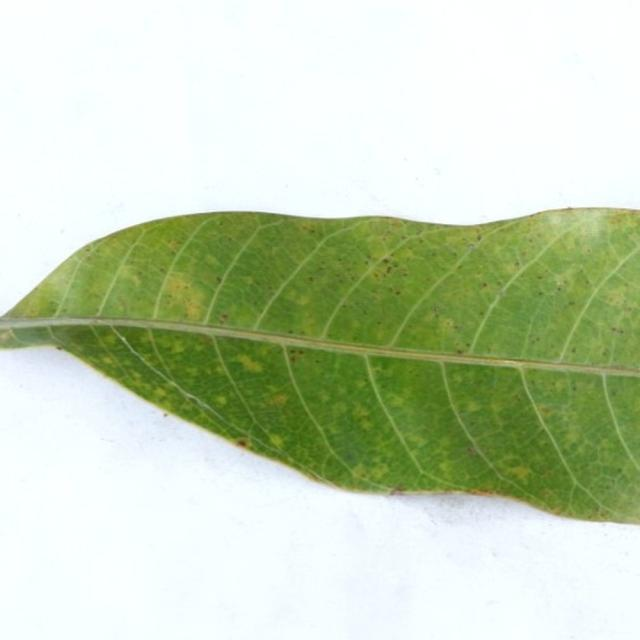Mango: (0, 209, 639, 528)
Powdery_Mildew: (159, 271, 208, 318), (230, 348, 272, 382), (601, 281, 632, 307), (367, 241, 397, 263), (435, 316, 462, 338), (117, 269, 142, 288), (508, 465, 532, 480), (562, 426, 582, 443), (489, 399, 510, 415), (609, 210, 634, 223), (370, 464, 391, 479), (351, 464, 371, 479), (408, 433, 428, 448), (203, 254, 220, 268), (288, 349, 305, 363), (271, 393, 289, 406), (353, 407, 371, 420), (463, 401, 482, 413), (268, 434, 284, 448), (170, 341, 186, 355), (331, 402, 348, 415), (296, 294, 312, 307), (389, 396, 406, 408), (438, 462, 454, 474), (214, 394, 227, 406), (359, 419, 373, 430), (242, 275, 256, 286), (166, 239, 180, 250), (442, 318, 456, 329), (153, 388, 167, 398), (101, 356, 114, 365), (611, 326, 625, 334), (467, 446, 478, 455), (385, 265, 393, 274), (455, 348, 464, 355), (481, 282, 488, 288), (395, 290, 401, 295)
